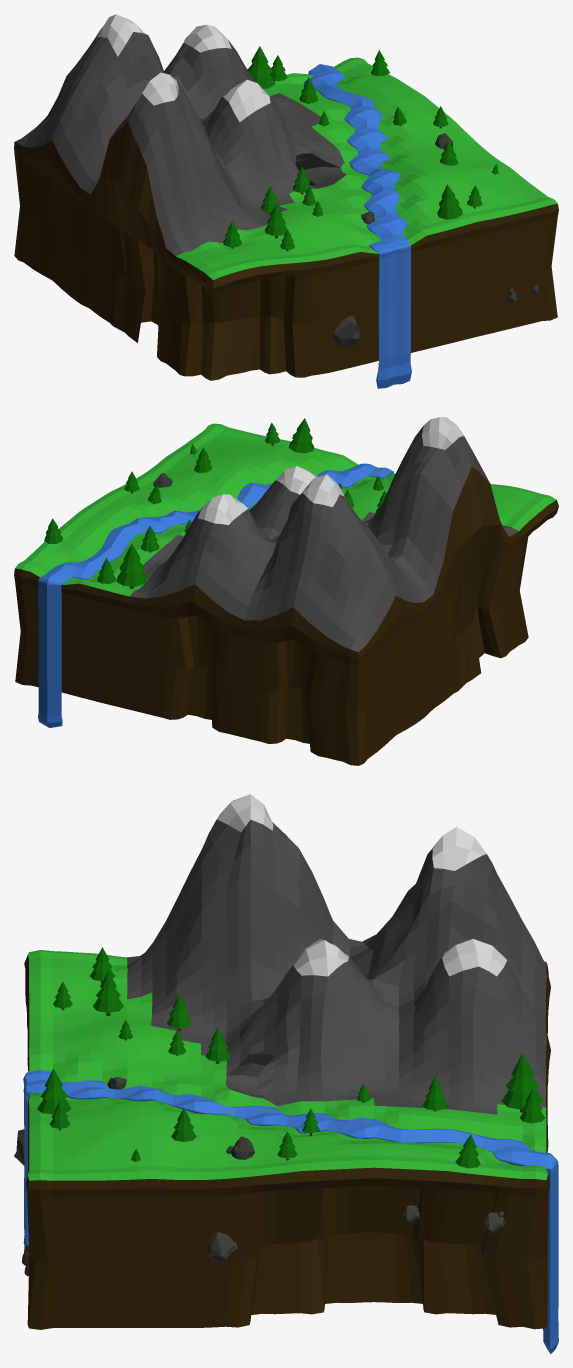
The model's file is terrain.fbx.
The picture shows the model from 3 angles, top to bottom: view 1: azimuth 30°, elevation 25°; view 2: azimuth 150°, elevation 25°; view 3: azimuth 270°, elevation 25°; orthographic projection. The views are drawn at different scales.
Parts seen in each view (by area): view 1: Plane, Cone.009, Icosphere.008, Cone.015; view 2: Plane, Cone.009, Cone.015; view 3: Plane, Cone.009, Cone.015, Cone.001, Icosphere.
Boxes of the visible parts, x1,y1,x2,y2 form: Plane: (14, 14, 558, 388); Cone.009: (247, 46, 275, 88); Icosphere.008: (333, 315, 360, 347); Cone.015: (437, 184, 462, 219); Plane: (14, 417, 558, 765); Cone.009: (116, 544, 147, 588); Cone.015: (288, 418, 313, 453); Plane: (23, 794, 558, 1353); Cone.009: (501, 1053, 543, 1112); Cone.015: (37, 1068, 71, 1114); Cone.001: (93, 971, 123, 1015); Icosphere: (206, 1232, 237, 1262).
Bounding box in the file's own units: 852 × 651 × 841.
